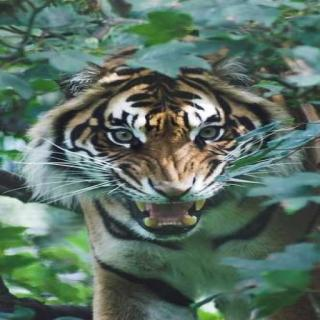Tiger: (25, 47, 288, 300)
